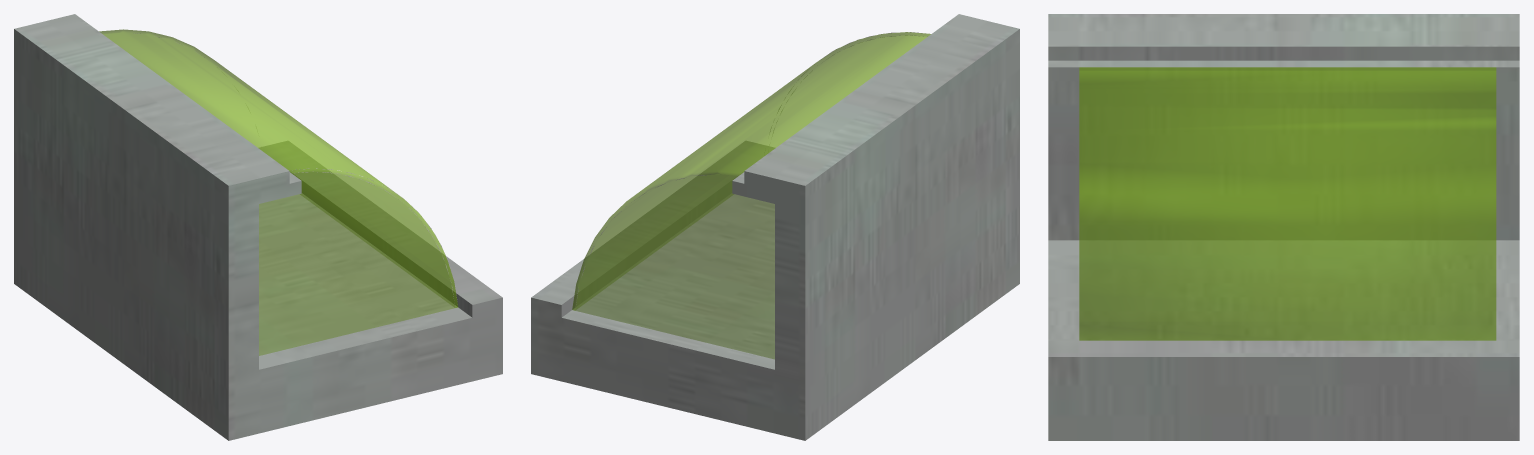
File: Sem+nome (4).dae
3 views of the same model, side by side, from view 1: azimuth 30°, elevation 25°; view 2: azimuth 150°, elevation 25°; view 3: azimuth 270°, elevation 25° (orthographic). The views are drawn at different scales.
Visible parts, largest first — view 1: Agrupar_36, group_1, Agrupar_42, Agrupar_41; view 2: Agrupar_36, group_1, Agrupar_41, Agrupar_42; view 3: Agrupar_36, group_1, Agrupar_42, Agrupar_41.
Part boxes in pixels (left/top/right/bottom): Agrupar_36: left=24, top=21, right=488, bottom=430; group_1: left=99, top=29, right=457, bottom=355; Agrupar_42: left=214, top=161, right=502, bottom=440; Agrupar_41: left=14, top=14, right=297, bottom=291; Agrupar_36: left=542, top=24, right=1005, bottom=432; group_1: left=572, top=32, right=930, bottom=359; Agrupar_41: left=531, top=163, right=815, bottom=440; Agrupar_42: left=732, top=14, right=1019, bottom=293; Agrupar_36: left=1079, top=14, right=1496, bottom=440; group_1: left=1079, top=67, right=1496, bottom=340; Agrupar_42: left=1048, top=14, right=1079, bottom=440; Agrupar_41: left=1496, top=14, right=1519, bottom=440.
Size of the model in its own units: 17.72 by 24.02 by 15.75.
4 materials, 1 textured.
